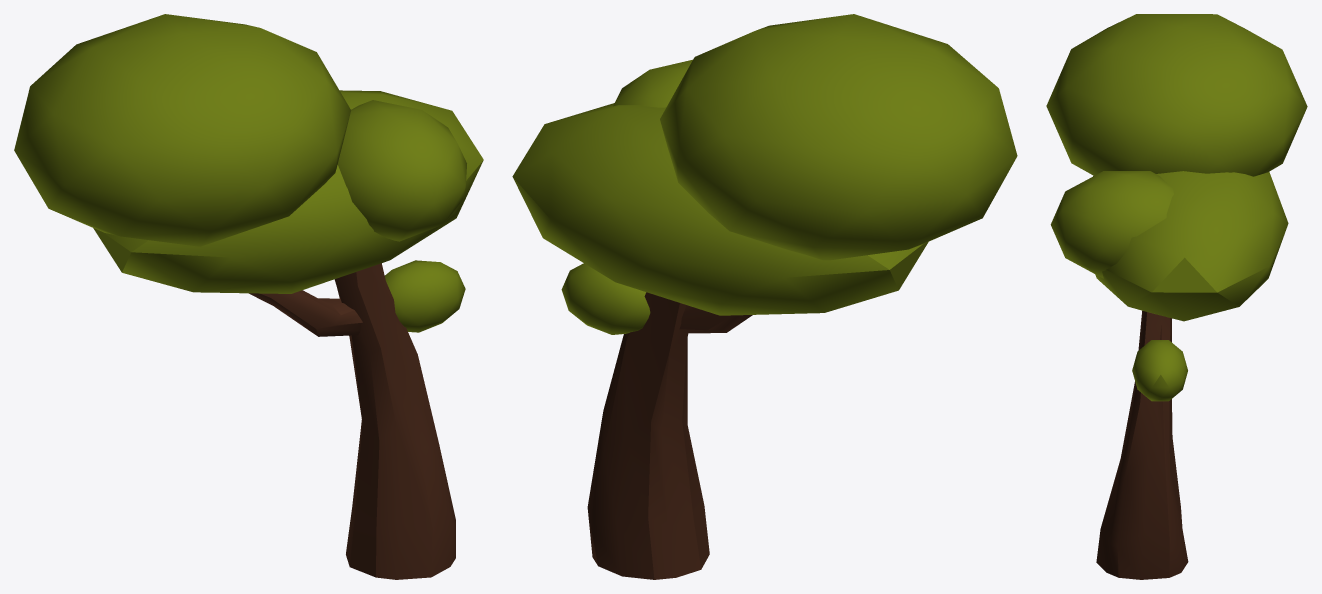
File: foliage_TreeC.fbx
3 views of the same model, side by side, from view 1: azimuth 30°, elevation 25°; view 2: azimuth 150°, elevation 25°; view 3: azimuth 270°, elevation 25° (orthographic). The views are drawn at different scales.
Parts seen in each view (by area): view 1: TreeC; view 2: TreeC; view 3: TreeC.
Part boxes in pixels (x1=…): TreeC: x1=14, y1=14, x2=483, y2=579; TreeC: x1=512, y1=14, x2=1017, y2=579; TreeC: x1=1046, y1=14, x2=1307, y2=579.
Bounding box in the file's own units: 1506 × 1856 × 966.
